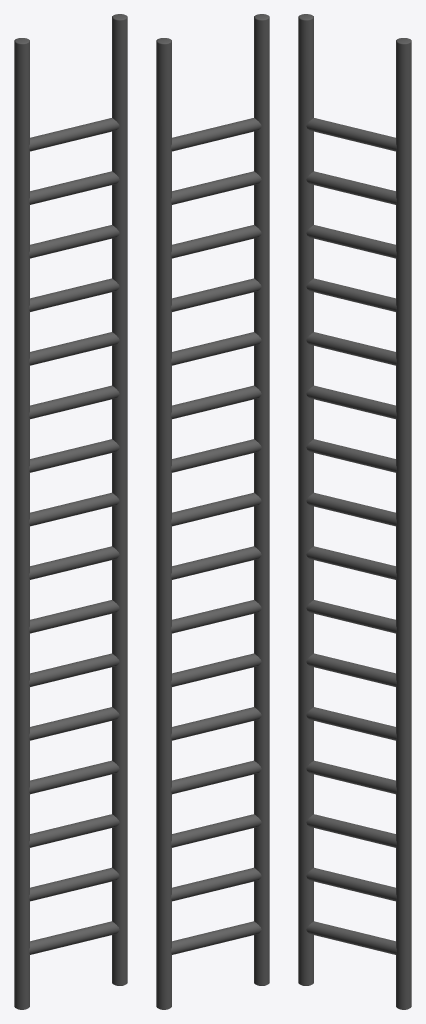
File: Public_11_Firefighter_Ladder_2.glb
3 renders of one model, left to right at view 1: azimuth 30°, elevation 25°; view 2: azimuth 210°, elevation 25°; view 3: azimuth 330°, elevation 25°, orthographic.
Visible parts, largest first — view 1: Public_11_Firefighter_Ladder_2; view 2: Public_11_Firefighter_Ladder_2; view 3: Public_11_Firefighter_Ladder_2.
Part boxes in pixels (bbox=[...]): Public_11_Firefighter_Ladder_2: bbox=[14, 14, 127, 1009]; Public_11_Firefighter_Ladder_2: bbox=[156, 14, 269, 1009]; Public_11_Firefighter_Ladder_2: bbox=[298, 14, 411, 1009].
Bounding box in the file's own units: 1.31 × 10.83 × 0.163.
1 material, 1 textured.
